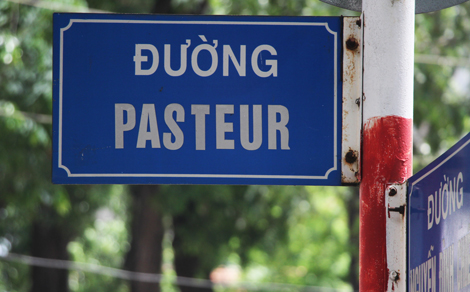streetname: (49, 11, 339, 183)
